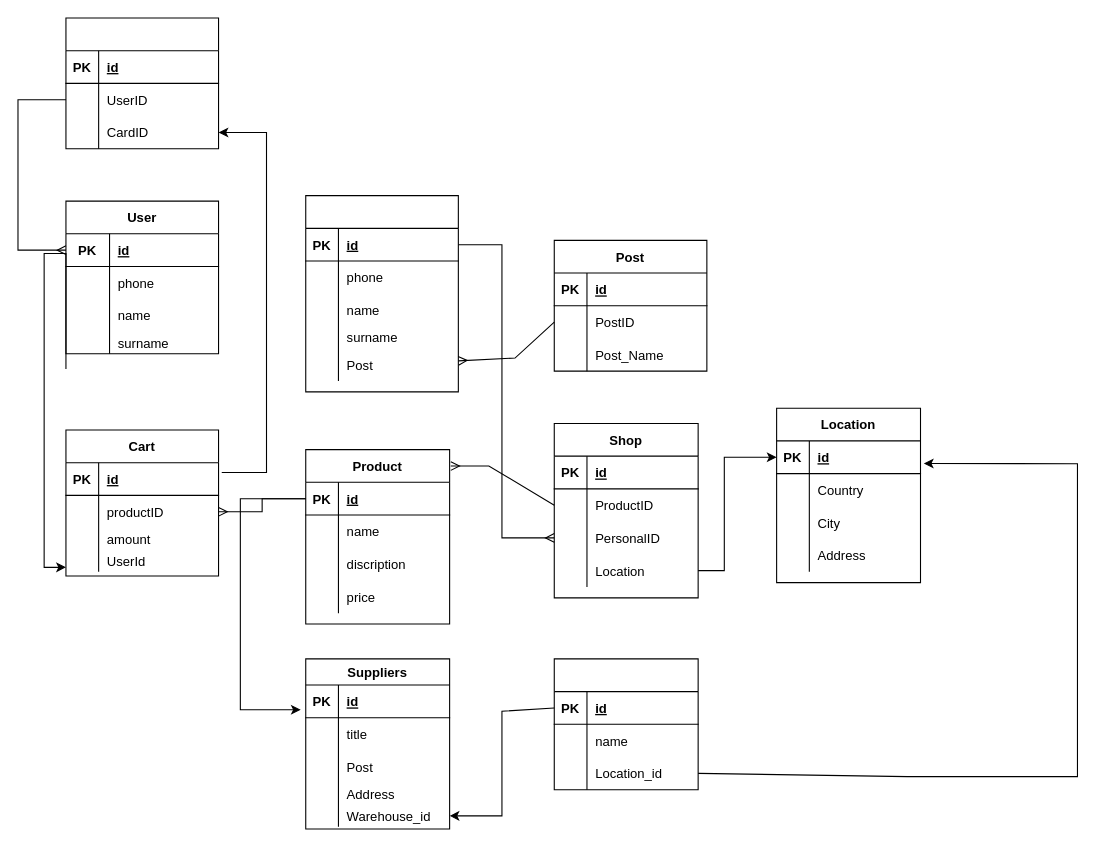
This 1095x847 diagram has some shape labels left out. The box of each missing label's shape, as (x1, y1, x2, y2) in pixels:
cheque: (65, 17, 219, 149)
Personal: (305, 195, 458, 392)
warehouse: (553, 658, 698, 790)
